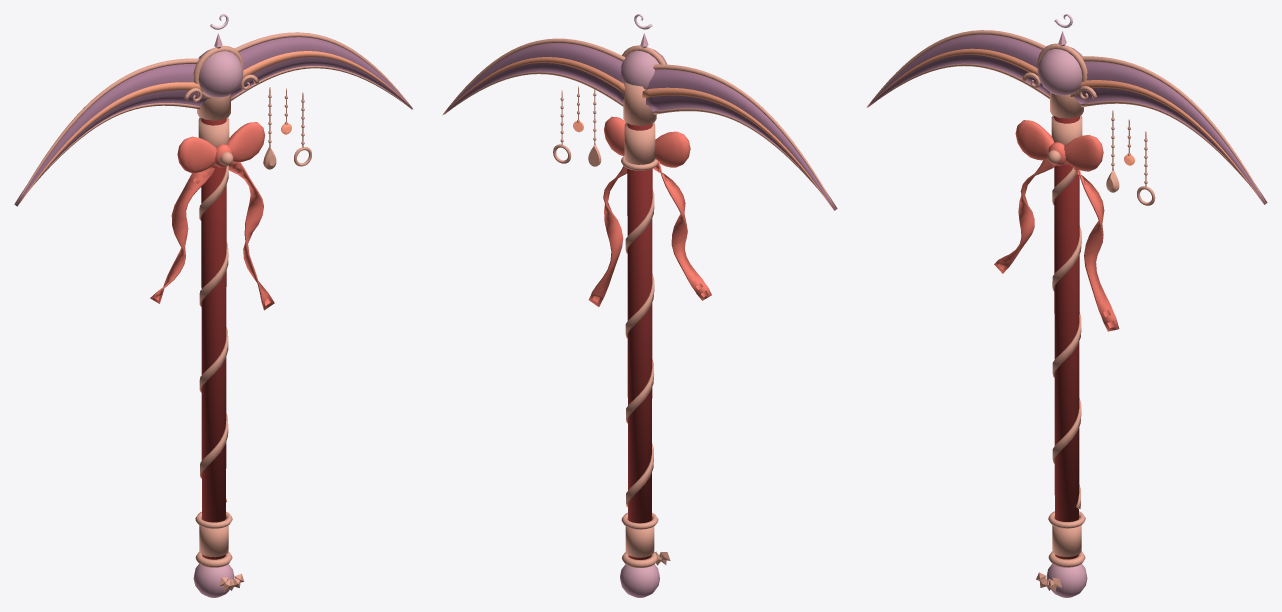
Rendered from FireglassPickaxe.glb.
3 renders of one model, left to right at view 1: azimuth 30°, elevation 25°; view 2: azimuth 150°, elevation 25°; view 3: azimuth 330°, elevation 25°, orthographic.
Parts seen in each view (by area): view 1: FireglassPickaxe_SmoothPlastic, FireglassPickaxe_Glass, FireglassPickaxe_Metal; view 2: FireglassPickaxe_SmoothPlastic, FireglassPickaxe_Glass, FireglassPickaxe_Metal; view 3: FireglassPickaxe_SmoothPlastic, FireglassPickaxe_Glass, FireglassPickaxe_Metal.
Boxes of the visible parts, <box> form: FireglassPickaxe_SmoothPlastic: <box>150,14,274,559</box>; FireglassPickaxe_Glass: <box>14,33,413,597</box>; FireglassPickaxe_Metal: <box>15,32,412,591</box>; FireglassPickaxe_SmoothPlastic: <box>588,14,711,559</box>; FireglassPickaxe_Glass: <box>442,33,837,597</box>; FireglassPickaxe_Metal: <box>443,38,836,567</box>; FireglassPickaxe_SmoothPlastic: <box>994,14,1119,559</box>; FireglassPickaxe_Glass: <box>866,31,1267,597</box>; FireglassPickaxe_Metal: <box>867,30,1266,591</box>.
Size of the model in its own units: 3.13 by 4.39 by 0.417.
4 materials, 4 textured.
